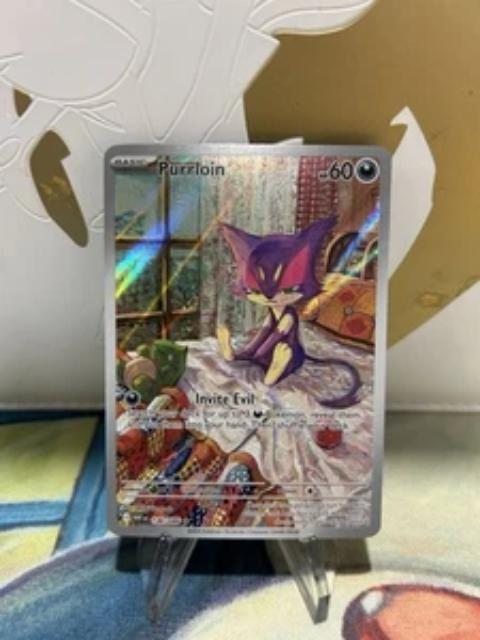Card: (98, 139, 399, 544)
Name: (151, 158, 230, 180)
